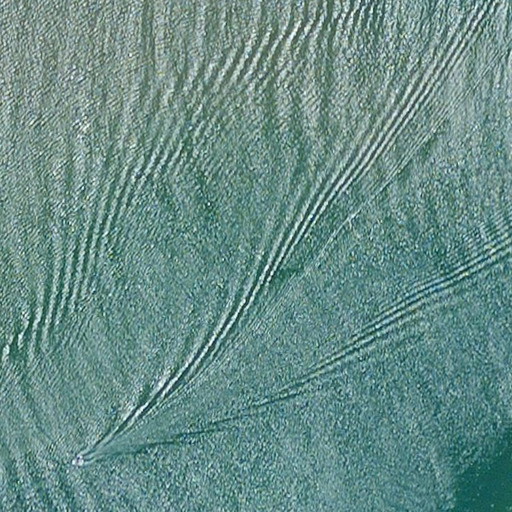ship: (70, 456, 88, 468)
